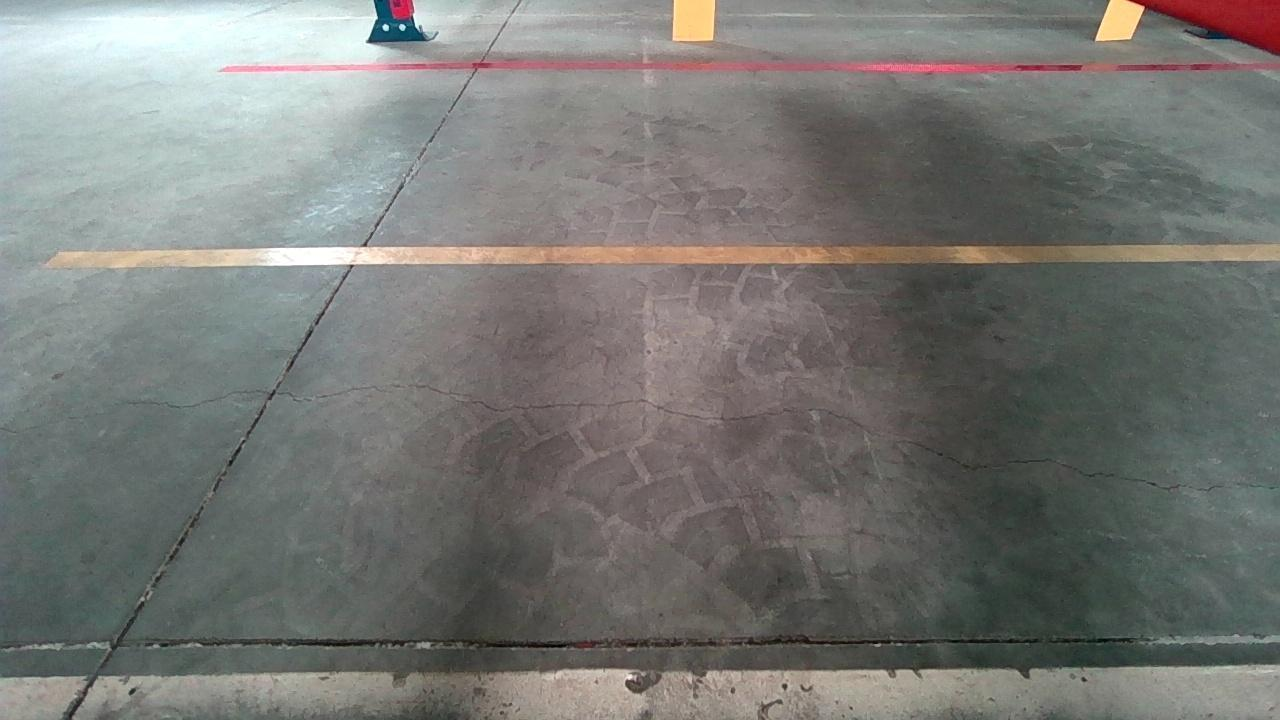red_line: (221, 64, 1280, 72)
yellow_line: (38, 245, 1280, 268)
